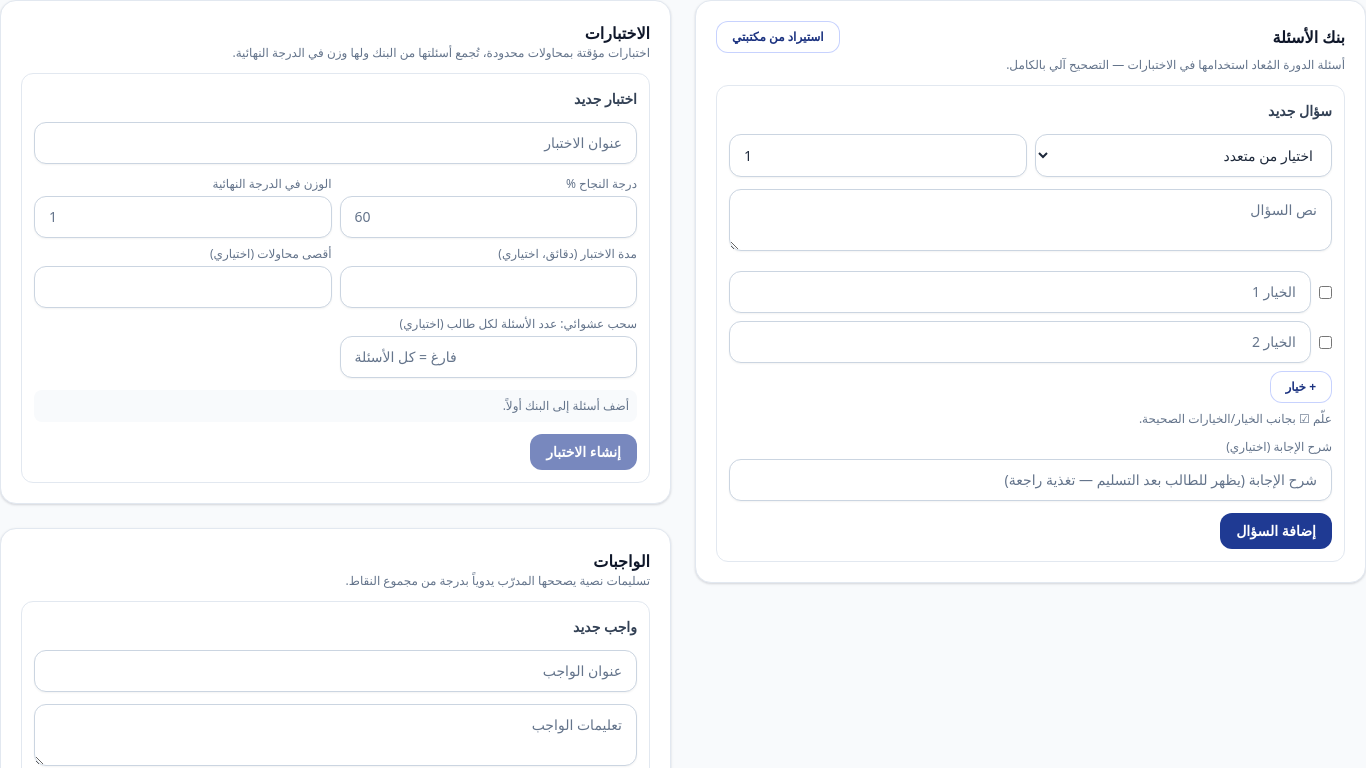
it: QuestionImportPicker — E5 › AssessmentsPanel: زرّ «استيراد من مكتبتي» يفتح منتقي الاستيراد
The width and height of the screenshot is (1366, 768).
Click the button "استيراد من مكتبتي" at [778, 37], box [716, 21, 840, 53]
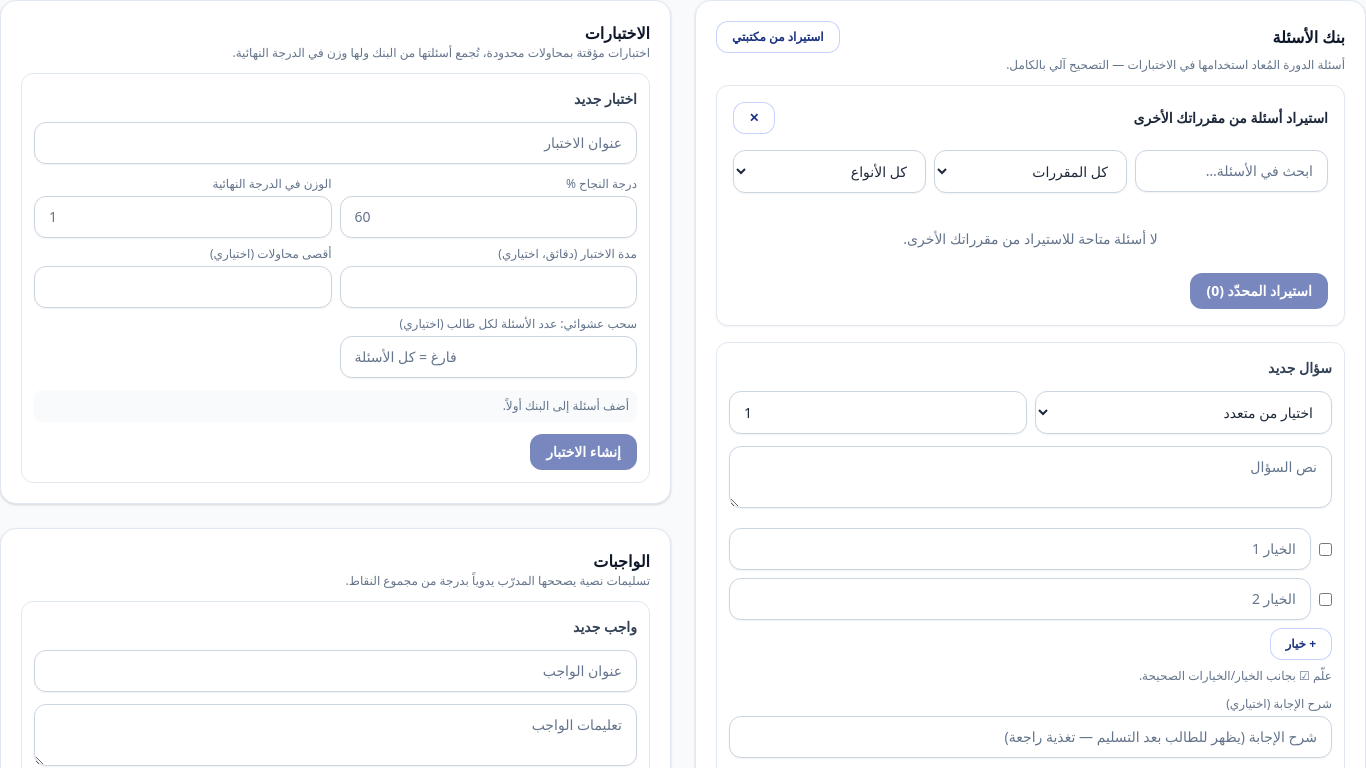
Check: the heading "استيراد أسئلة من مقرراتك الأخرى" is shown, box [1134, 108, 1328, 128]
